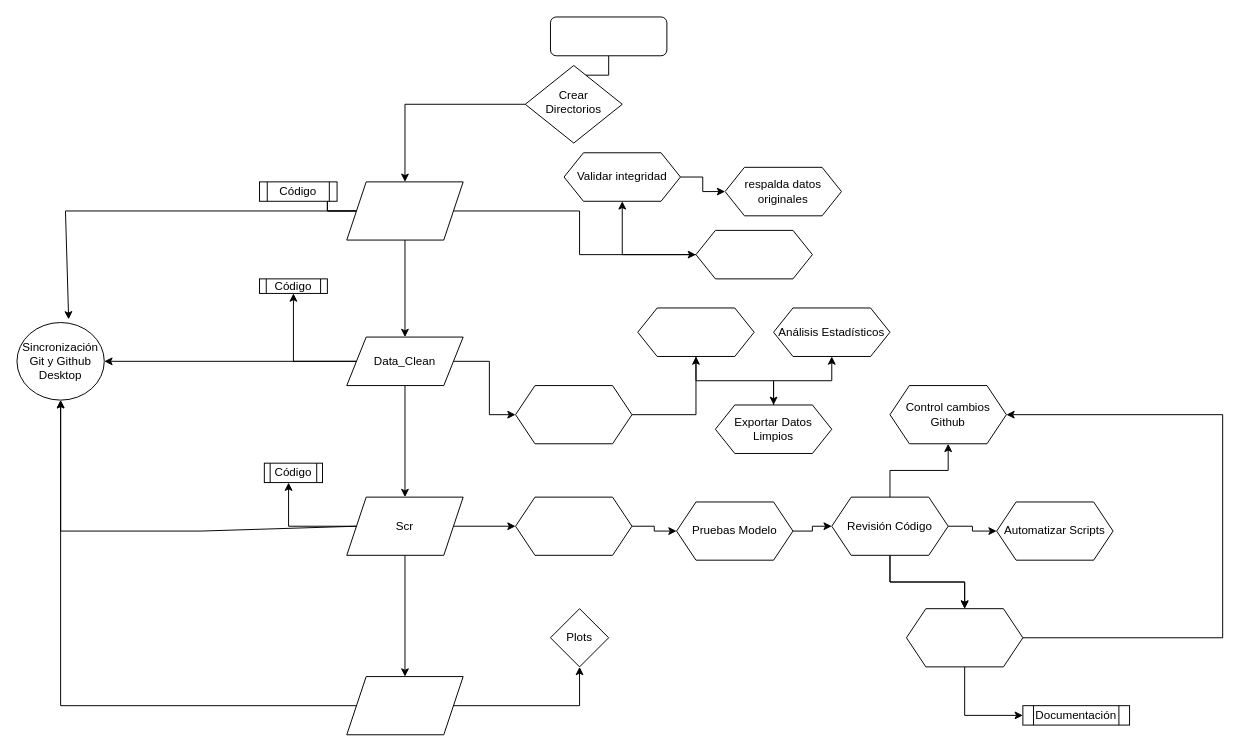
Image size: 1247x752. Some labels were removed from this diagram. Each missing label, with the centre of its shape:
"Cargar datos brutos" goes at point 753,254.
"Construir Modelo" goes at point 573,525.
"Data_Raw" goes at point 404,210.
"Documentar código" goes at point 964,637.
"Imputar datos" goes at point 695,331.
"Inicio" goes at point 608,36.
"Resultados" goes at point 404,705.
"Revisar datos" goes at point 573,414.
